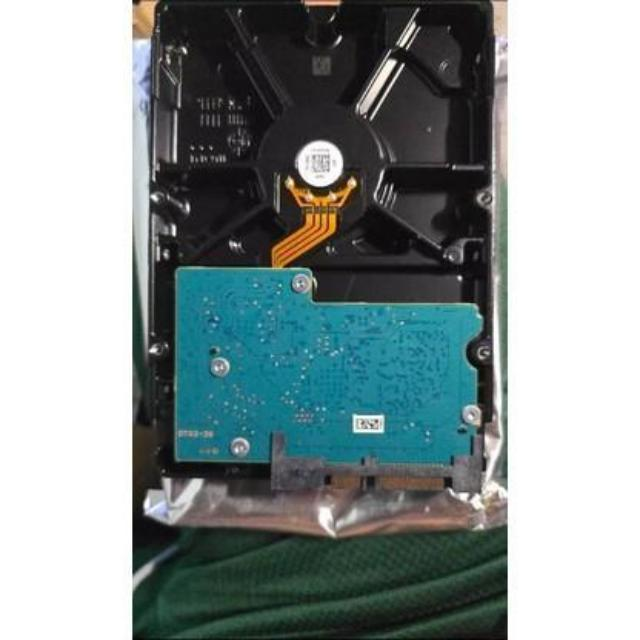DISK: (144, 0, 488, 505)
